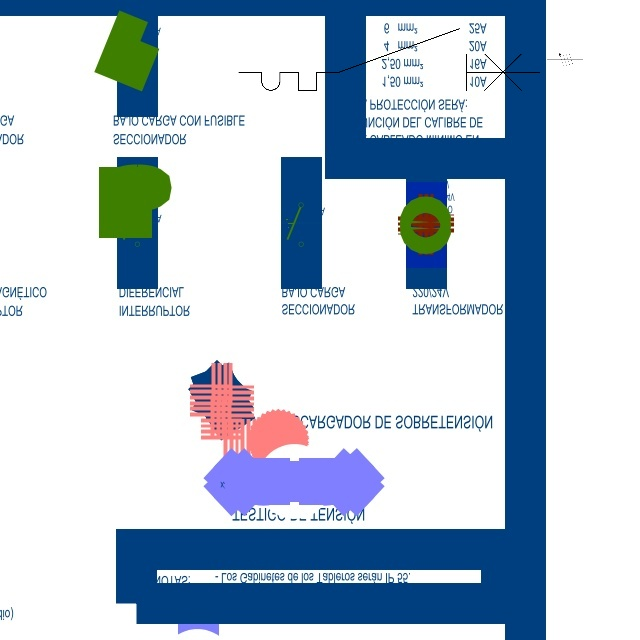interruptor_termomagnetico: (231, 21, 547, 98)
